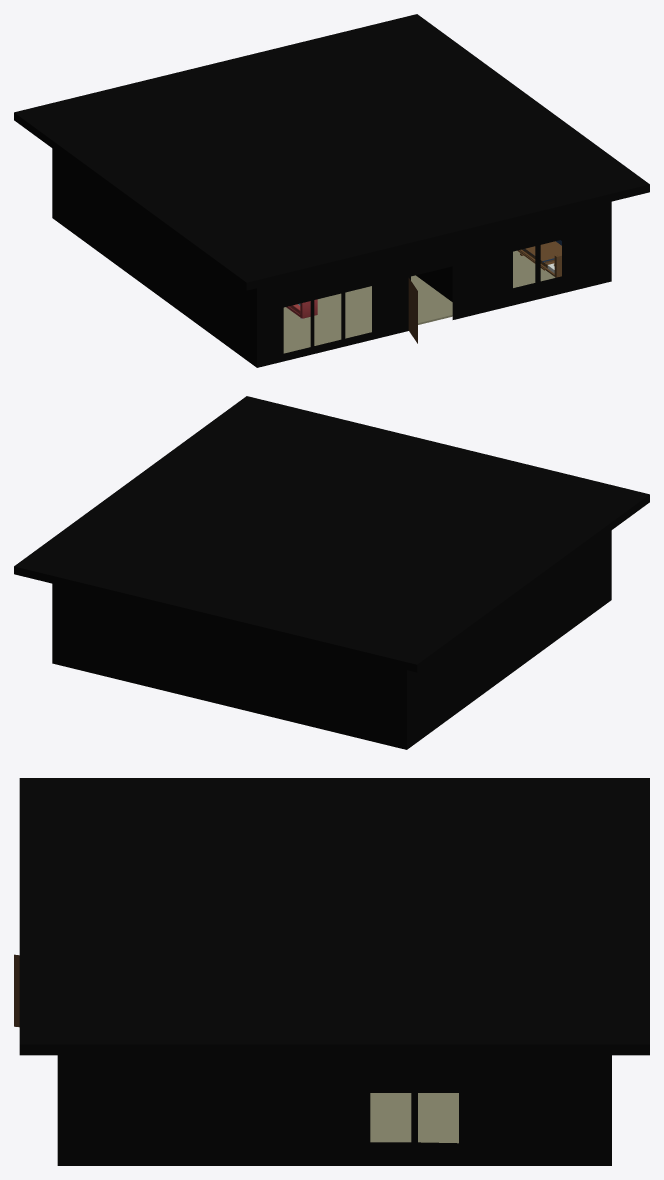
The model's file is rumah.glb.
3 renders of one model, top to bottom at view 1: azimuth 30°, elevation 25°; view 2: azimuth 150°, elevation 25°; view 3: azimuth 270°, elevation 25°, orthographic. The views are drawn at different scales.
Visible parts, largest first — view 1: Plane.005, Cube, Plane, Cube.024, Cube.001; view 2: Plane.005, Cube; view 3: Plane.005, Cube, Plane.
Part boxes in pixels (bbox=[...]): Plane.005: bbox=[14, 14, 649, 290]; Cube: bbox=[52, 148, 611, 367]; Plane: bbox=[283, 250, 555, 353]; Cube.024: bbox=[517, 240, 561, 277]; Cube.001: bbox=[408, 278, 417, 343]; Plane.005: bbox=[14, 396, 649, 672]; Cube: bbox=[52, 530, 611, 749]; Plane.005: bbox=[19, 778, 649, 1055]; Cube: bbox=[57, 1055, 611, 1165]; Plane: bbox=[370, 1093, 458, 1143].
Size of the model in its own units: 22.75 by 5.55 by 22.95.
